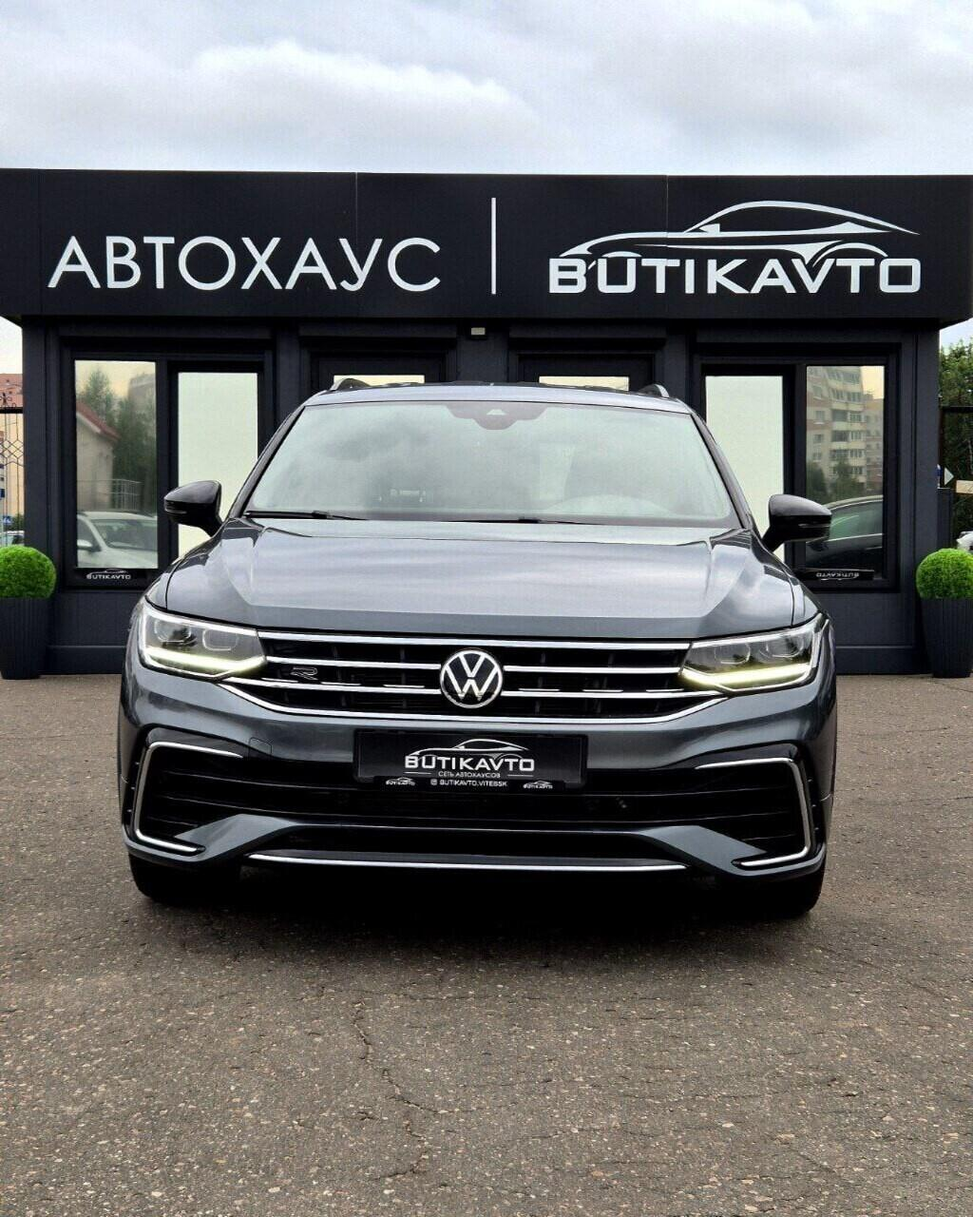Tiguan_2020-2024: (112, 372, 847, 935)
